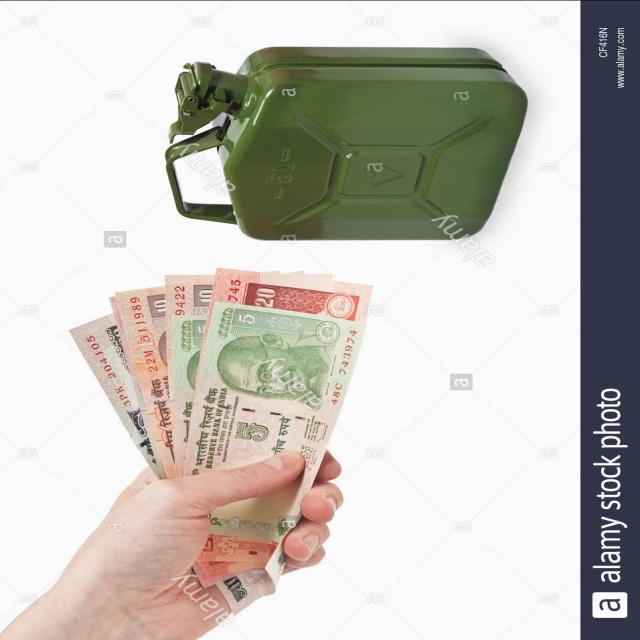5IndianRupees: (201, 276, 339, 516)
